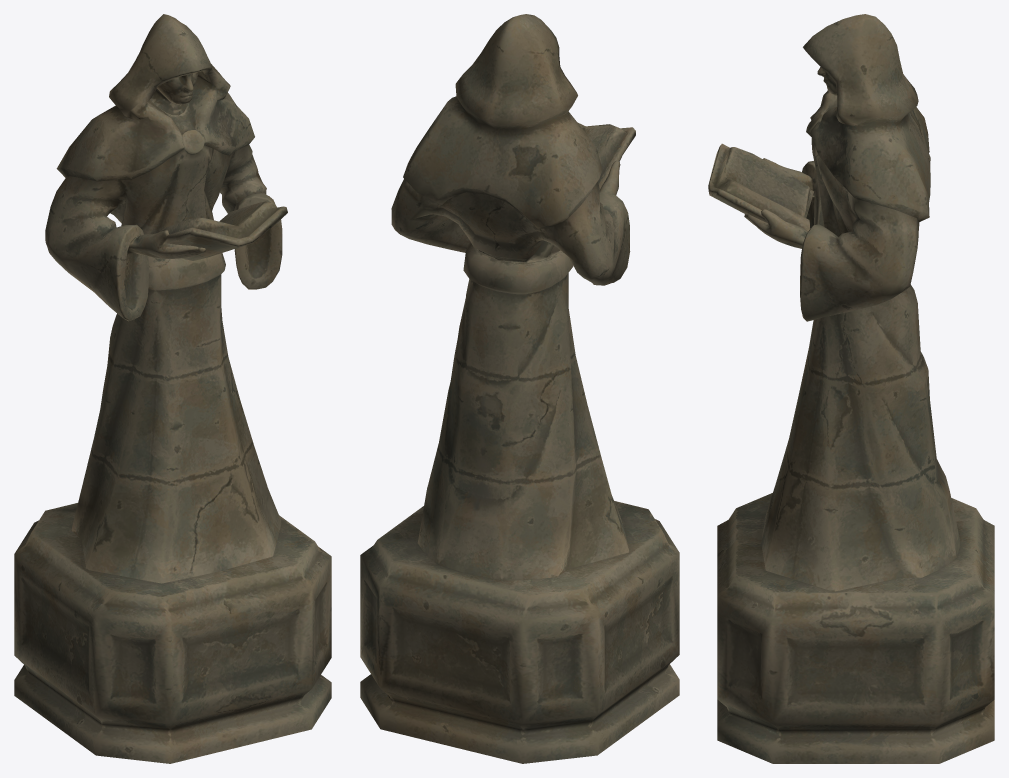
The model's file is wizard.glb.
The picture shows the model from 3 angles, left to right: view 1: azimuth 30°, elevation 25°; view 2: azimuth 150°, elevation 25°; view 3: azimuth 270°, elevation 25°; orthographic projection.
Parts seen in each view (by area): view 1: Body_low, Book_low, Head_low; view 2: Body_low, Book_low; view 3: Body_low, Book_low.
Part boxes in pixels (x1,y1,x2,y2): Body_low: (14,14,331,763); Book_low: (160,201,287,260); Head_low: (150,72,198,115); Body_low: (360,14,679,763); Book_low: (577,122,635,189); Body_low: (717,14,994,763); Book_low: (708,143,813,231).
Size of the model in its own units: 1.41 by 3.89 by 1.46.
Materials: 1 (1 with a texture image).
